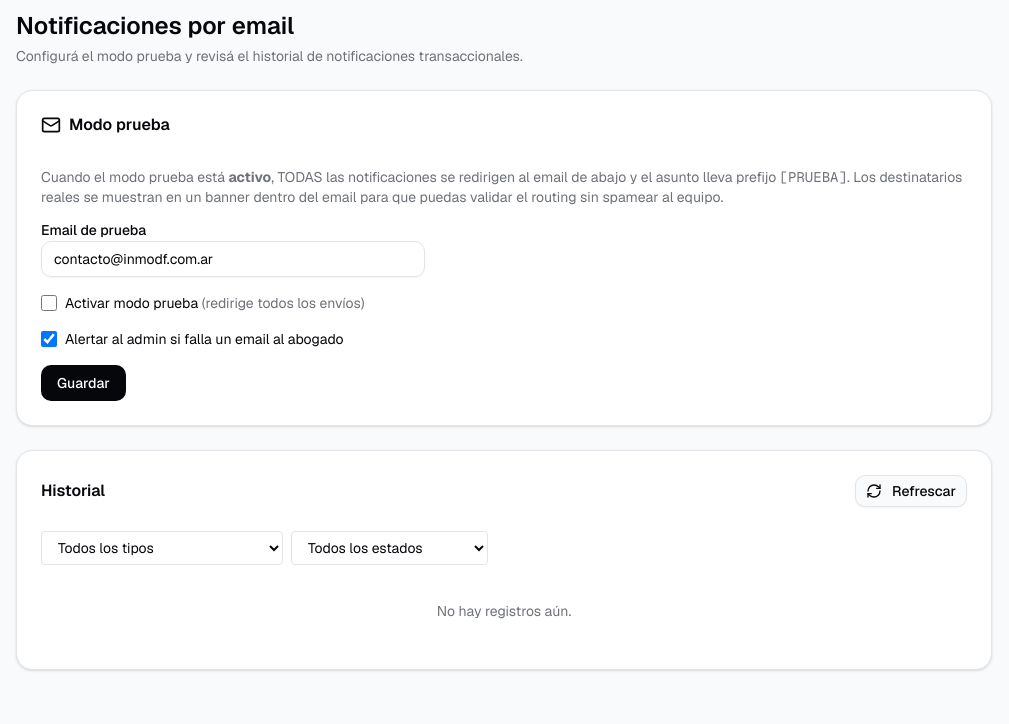
Test: Notificaciones — "Guardar" rechazado se explica y no borra lo tipeado › el 400 "Email inválido" se muestra y el email escrito SIGUE en el campo
Replace the text in the field labelled "Email de prueba" with "diego@inmodf" at (233, 259), box [41,241,425,277]
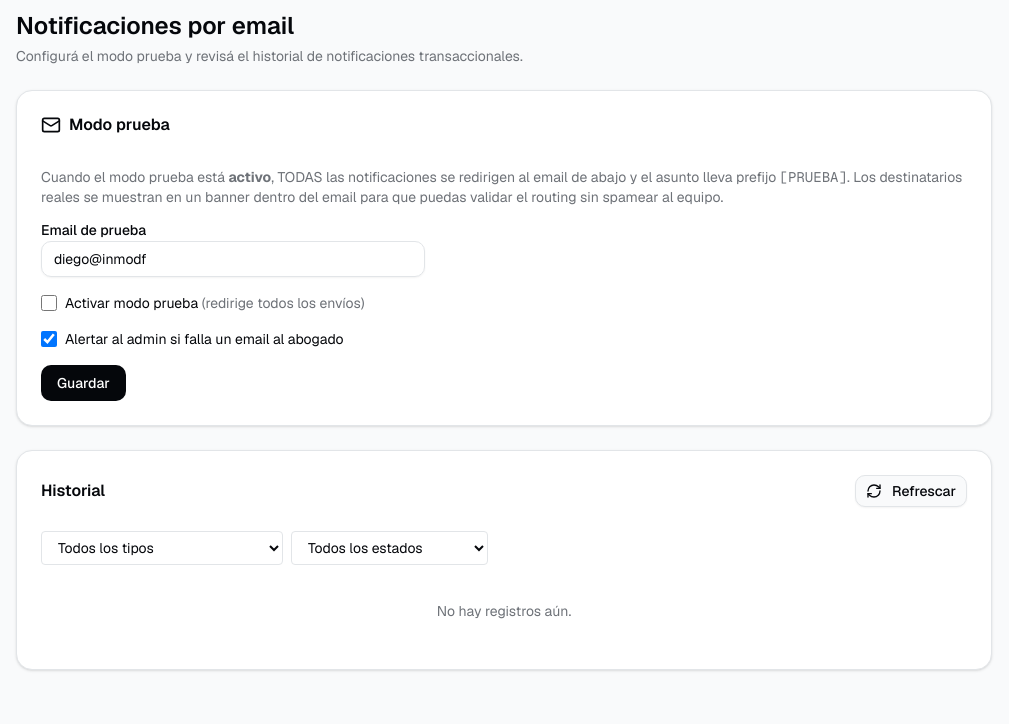
Click the button "Guardar" at (83, 383), box [41,365,126,401]
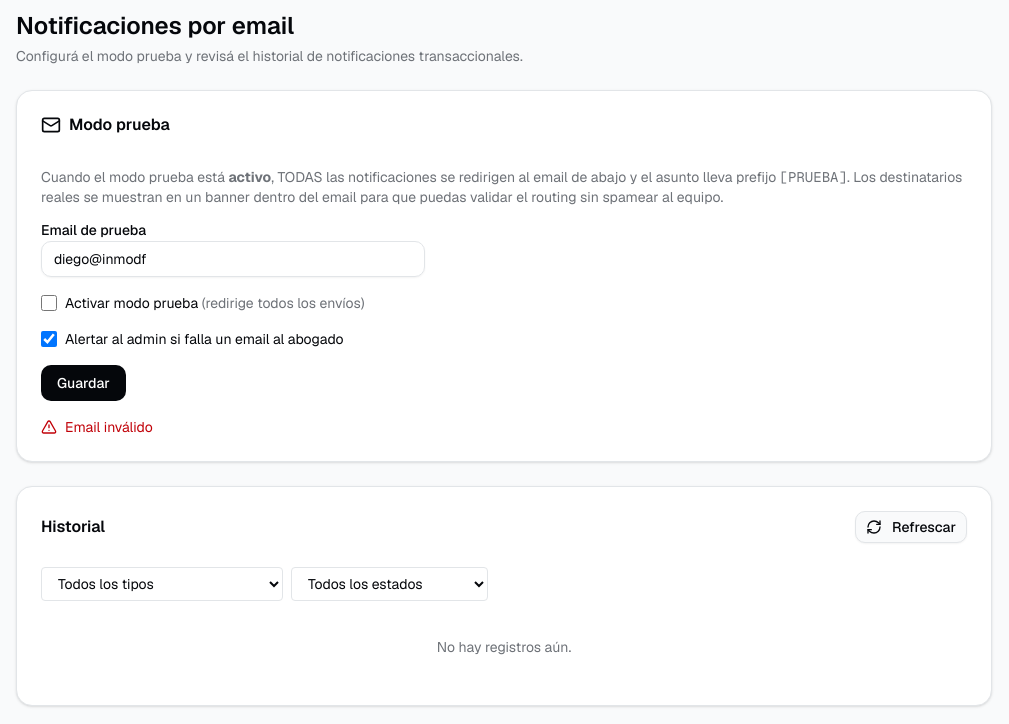
expect the text "Email inválido" is shown: met, box [41,418,153,436]
